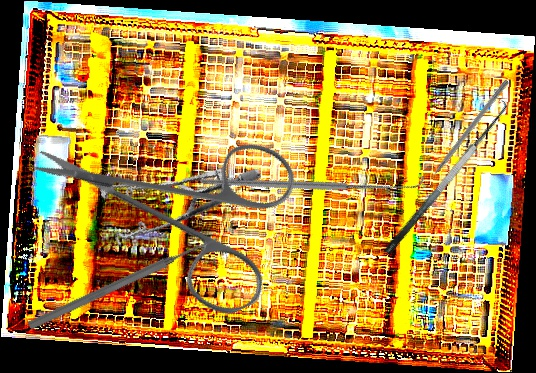Hook Surgical: (198, 76, 427, 285)
Iris Scissors: (27, 55, 339, 365)
Pusher: (26, 232, 221, 333), (419, 78, 510, 191)
Spatula Surgical: (370, 94, 517, 257)
Speculum: (84, 125, 263, 281)
